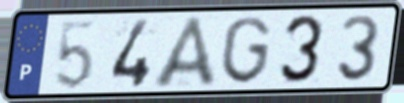3: (276, 12, 329, 87), (334, 13, 382, 83)
4: (108, 15, 154, 90)
5: (53, 17, 97, 90)
A: (150, 14, 221, 90)
G: (218, 15, 273, 87)
